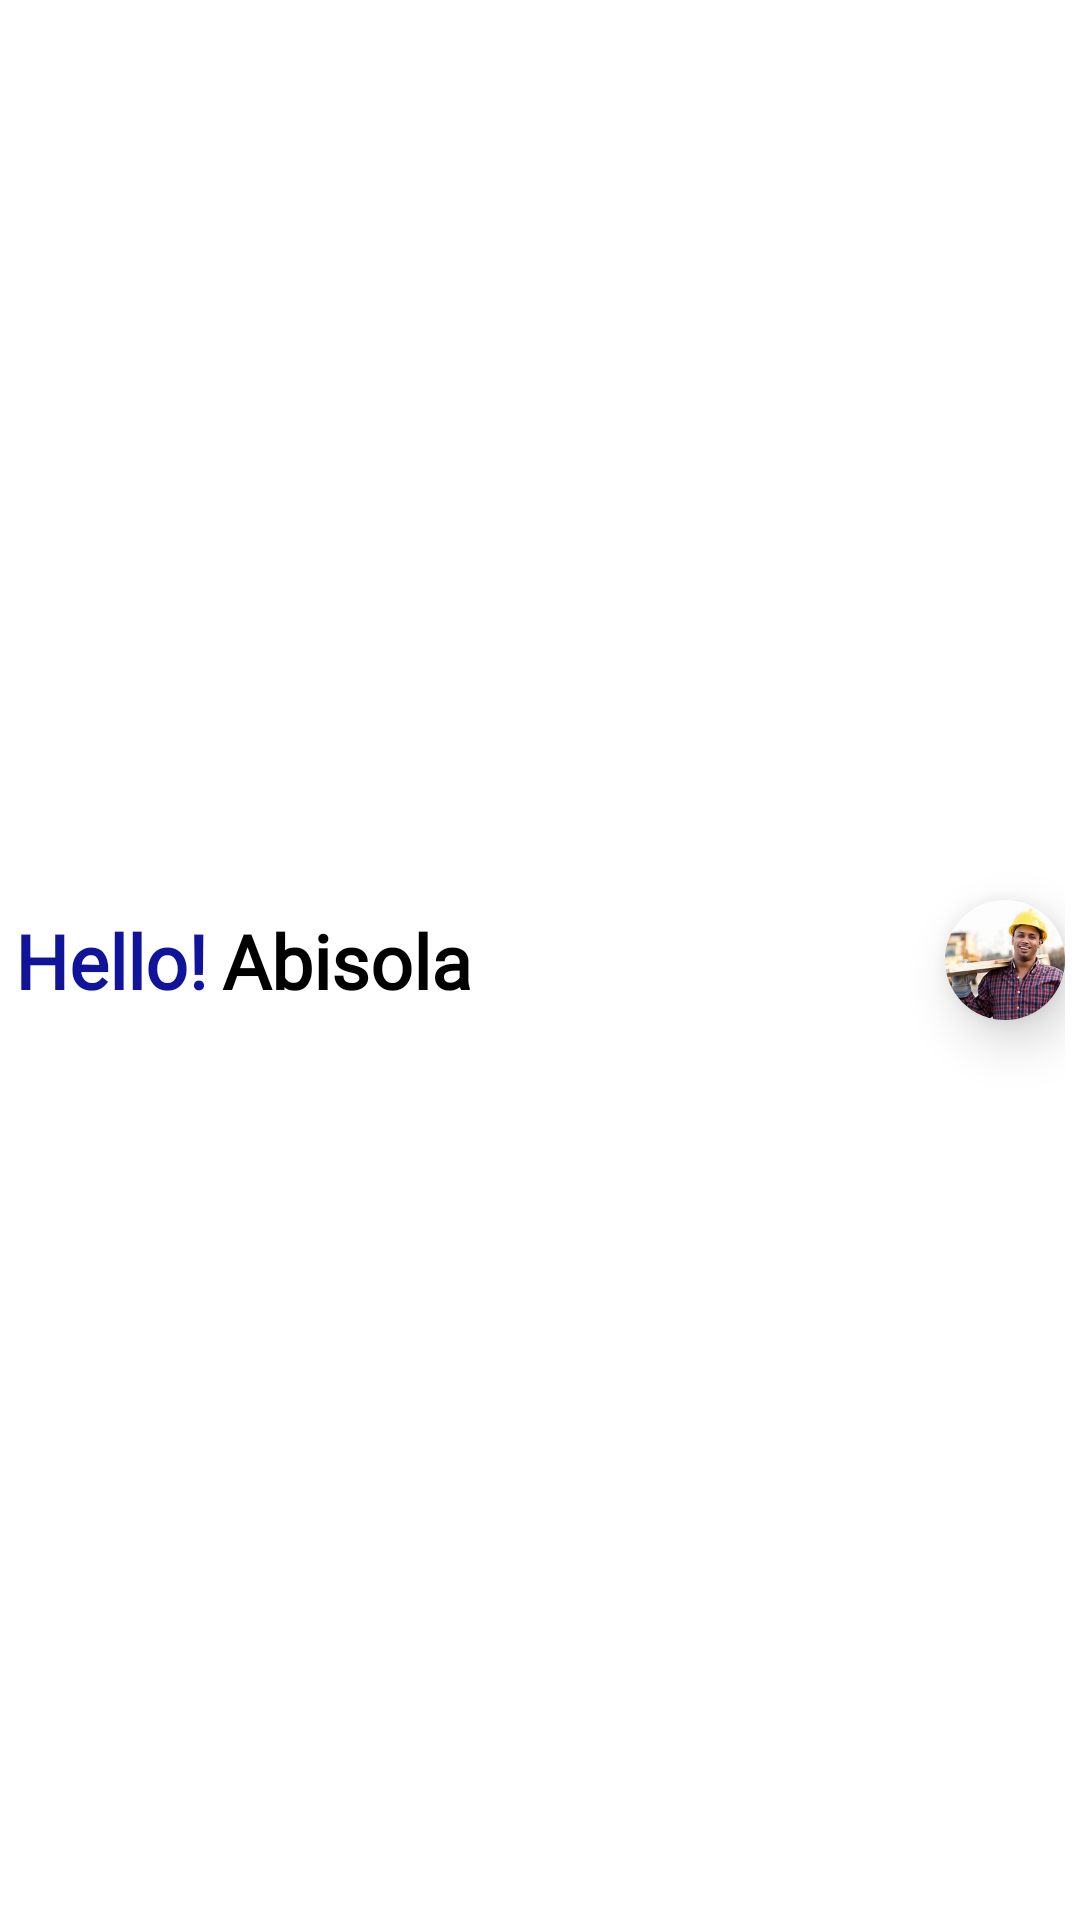

Point at icon controls on the screen. Image size 1080x1920, points as (x,y).
construction: (1005,964)
